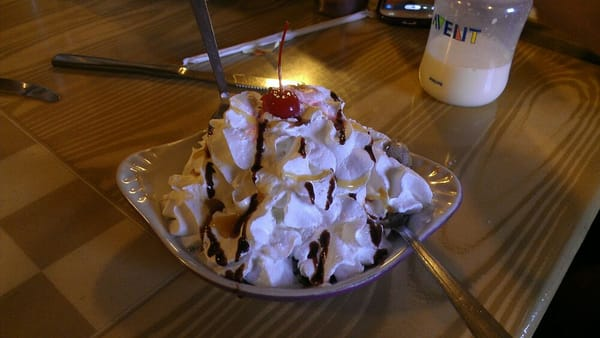salad: (0, 75, 61, 102)
